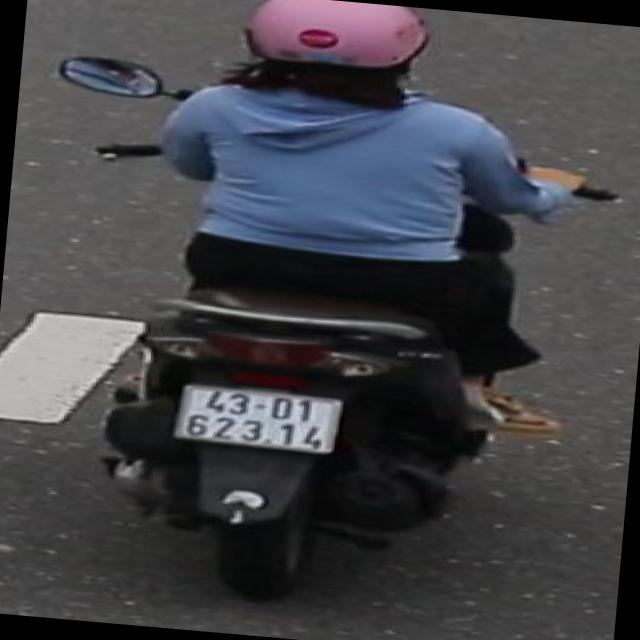LP: (161, 372, 363, 463)
helmet: (182, 0, 489, 124)
